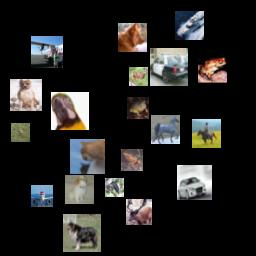airplane: (31, 36, 63, 68), (31, 185, 53, 207)
automobile: (150, 48, 188, 86), (177, 165, 212, 200)
bird: (51, 92, 89, 130), (11, 123, 30, 142), (105, 178, 124, 197)
cat: (70, 139, 105, 174)
deer: (126, 199, 152, 225), (129, 67, 148, 86)
dog: (63, 214, 101, 252), (10, 79, 42, 111), (65, 175, 94, 204), (118, 23, 147, 52)
frog: (198, 54, 227, 83), (121, 149, 143, 171), (127, 97, 149, 119)
ship: (175, 11, 204, 40)
